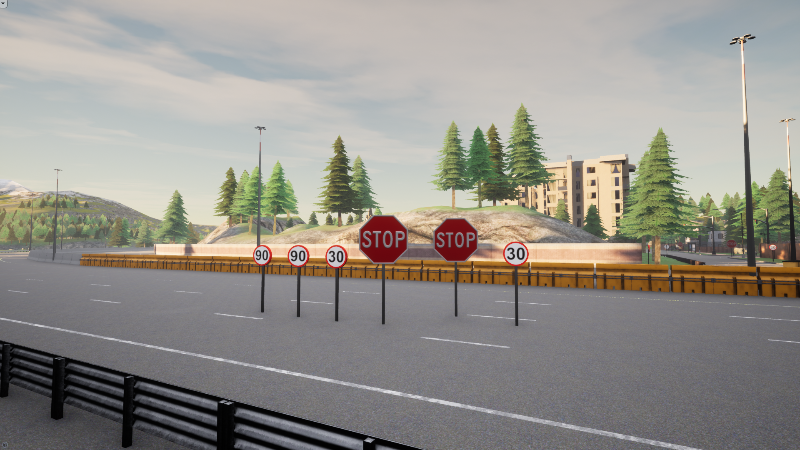fast: (287, 245, 310, 268), (252, 245, 274, 266)
slow: (503, 241, 530, 266), (325, 245, 348, 268)
stop: (358, 214, 409, 264), (433, 217, 479, 262)
